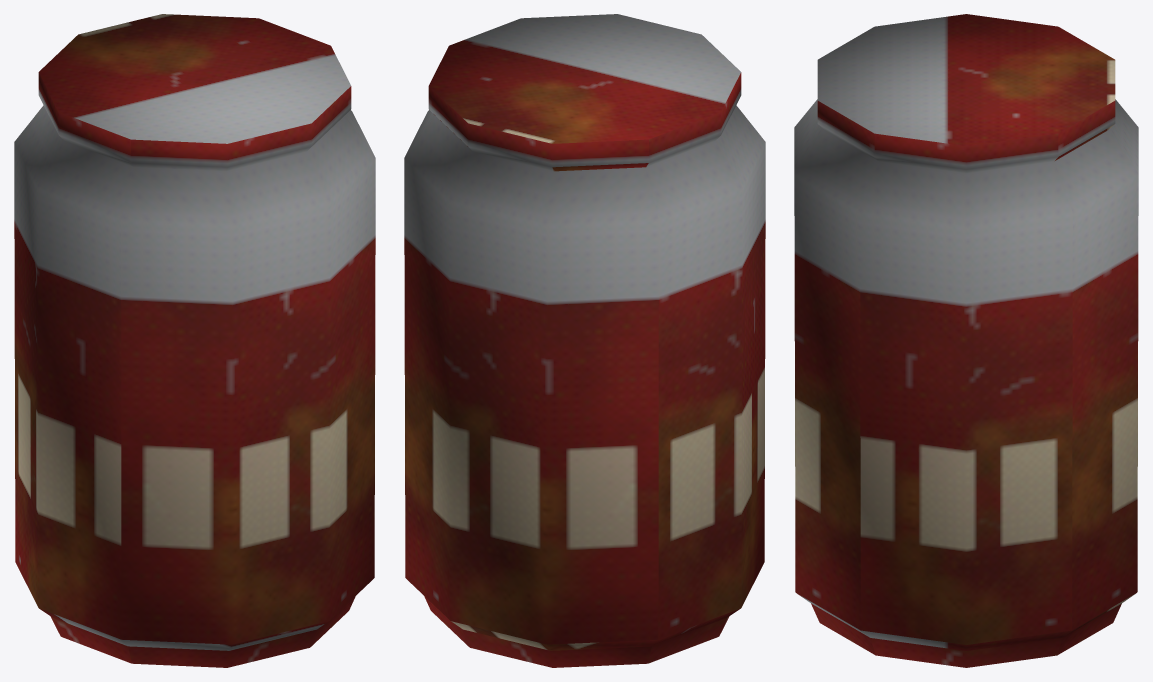
The model's file is BeerCan.fbx.
3 renders of one model, left to right at view 1: azimuth 30°, elevation 25°; view 2: azimuth 150°, elevation 25°; view 3: azimuth 270°, elevation 25°, orthographic.
Parts seen in each view (by area): view 1: BeerCan; view 2: BeerCan; view 3: BeerCan.
Boxes of the visible parts, <box> form: BeerCan: <box>14,14,375,667</box>; BeerCan: <box>404,14,765,667</box>; BeerCan: <box>794,14,1138,667</box>.
Size of the model in its own units: 0.0876 by 0.1398 by 0.0833.
1 material, 1 textured.
